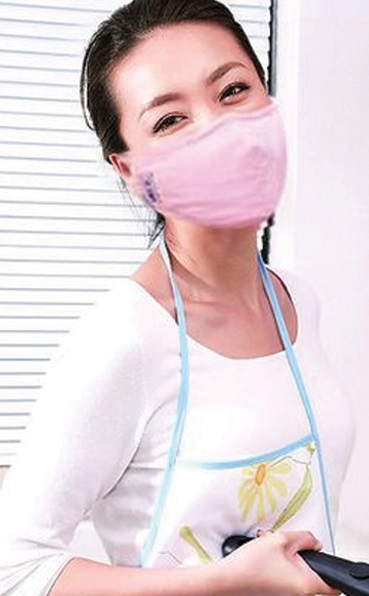face_mask: (127, 12, 286, 233)
